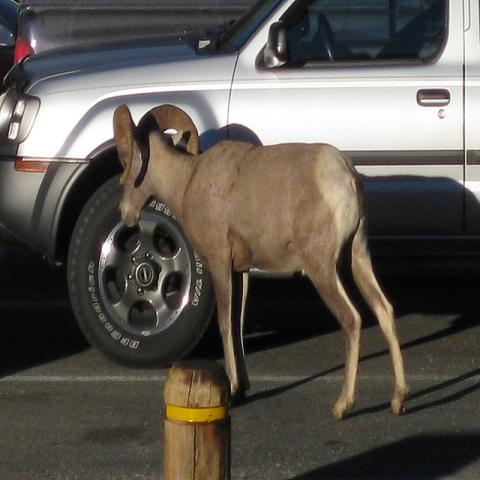car: (0, 0, 478, 369), (15, 2, 250, 66), (0, 0, 19, 78)
